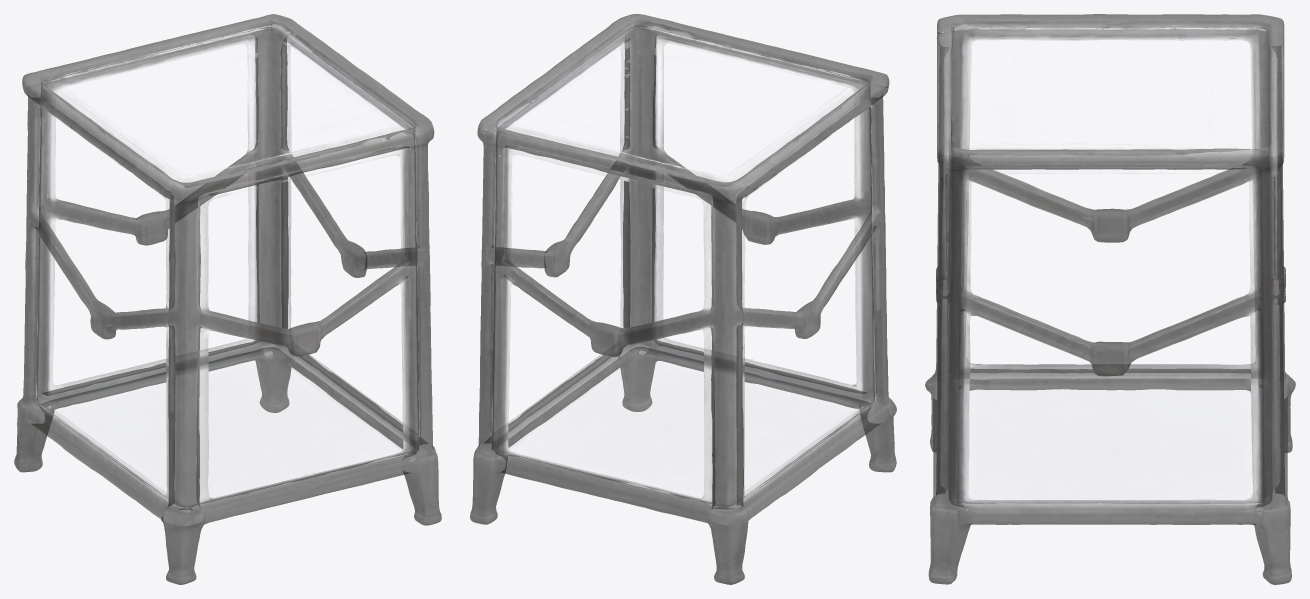
File: minidesk1.glb
The picture shows the model from 3 angles, left to right: view 1: azimuth 30°, elevation 25°; view 2: azimuth 150°, elevation 25°; view 3: azimuth 270°, elevation 25°; orthographic projection. The views are drawn at different scales.
Parts seen in each view (by area): view 1: tripo_node_f93a3be7; view 2: tripo_node_f93a3be7; view 3: tripo_node_f93a3be7.
Part boxes in pixels (x1=…): tripo_node_f93a3be7: x1=14, y1=14, x2=441, y2=584; tripo_node_f93a3be7: x1=470, y1=14, x2=896, y2=584; tripo_node_f93a3be7: x1=925, y1=14, x2=1295, y2=584.
Bounding box in the file's own units: 0.5348 × 0.7309 × 0.5706.
1 material, 1 textured.
